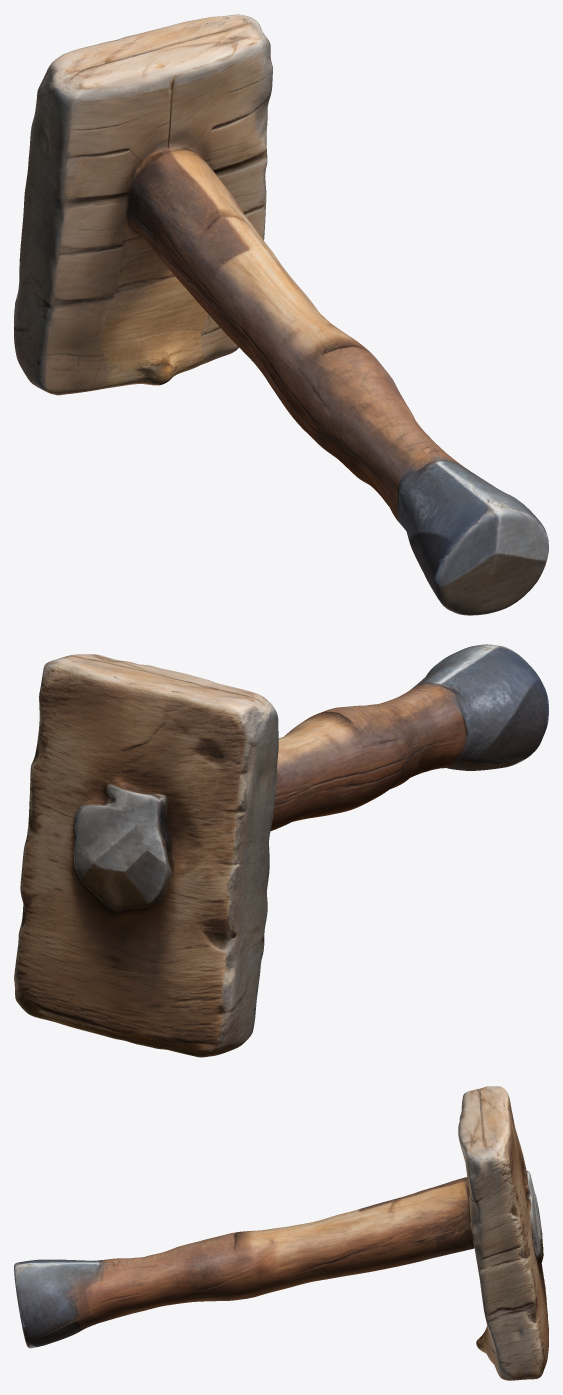
Rendered from make_wooden_and_stone_0903185118_refine.fbx.
3 views of the same model, one above another, from view 1: azimuth 30°, elevation 25°; view 2: azimuth 150°, elevation 25°; view 3: azimuth 270°, elevation 25° (orthographic). The views are drawn at different scales.
Parts seen in each view (by area): view 1: Mesh_0; view 2: Mesh_0; view 3: Mesh_0.
Part boxes in pixels (box(x1,y1,x2,y2)): Mesh_0: box(14, 14, 548, 615); Mesh_0: box(14, 644, 548, 1057); Mesh_0: box(14, 1086, 548, 1380).
Size of the model in its own units: 64.6 by 98.06 by 200.
Materials: 1 (1 with a texture image).
